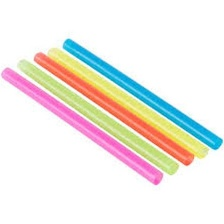drinking_straw: (0, 63, 167, 188)
